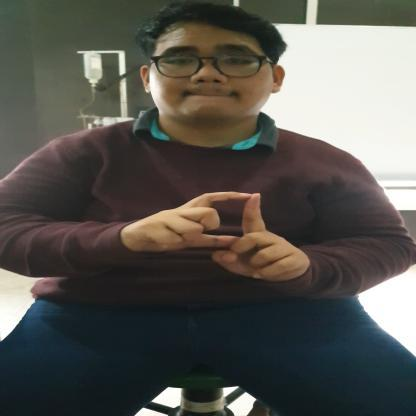D: (128, 192, 306, 282)
